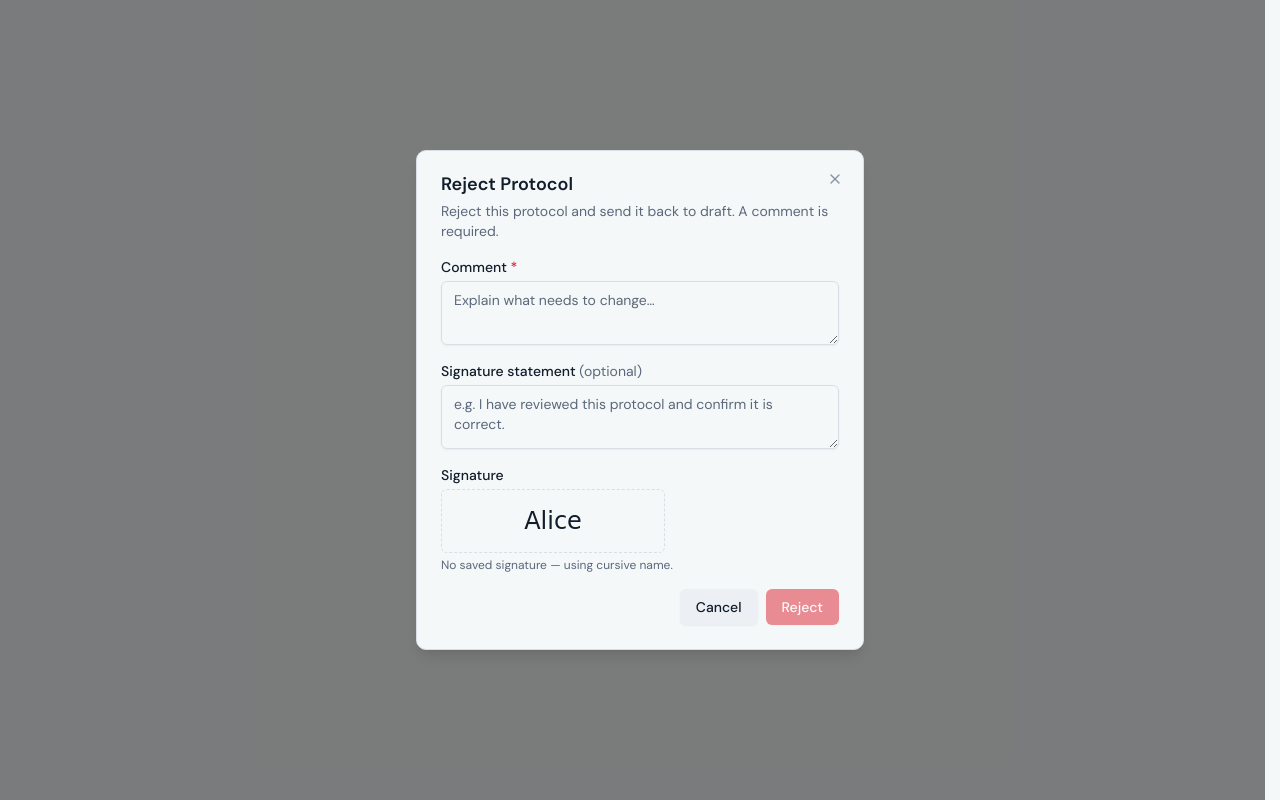
Scenario: ApprovalSignatureDialog › reject mode disables submit until comment is provided
This screenshot has width=1280, height=800.
Expected: the button "Reject" is disabled, [766,589,839,625]
Type "Needs cleanup" into the text box with id "approval-comment". click: {"x": 640, "y": 313}
box: [441,281,839,345]
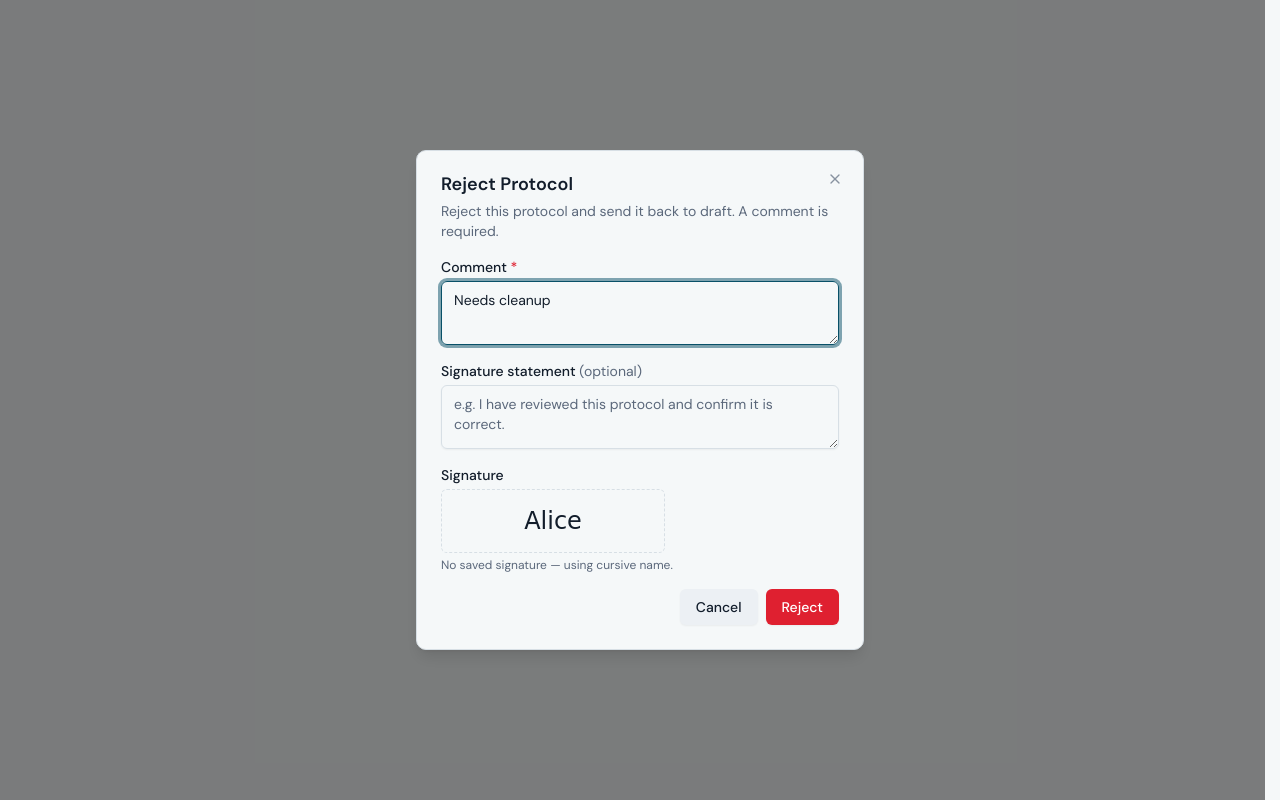
Now the button "Reject" is enabled, box [766,589,839,625]
